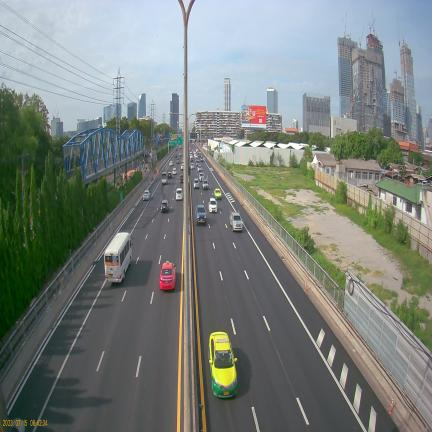bus: (105, 232, 132, 282)
car: (208, 198, 217, 213), (161, 199, 169, 213), (142, 189, 151, 200), (176, 188, 183, 200)
pickup: (230, 210, 243, 231), (196, 204, 206, 225)
taxi: (209, 332, 237, 398), (160, 261, 176, 290), (213, 188, 221, 200)
